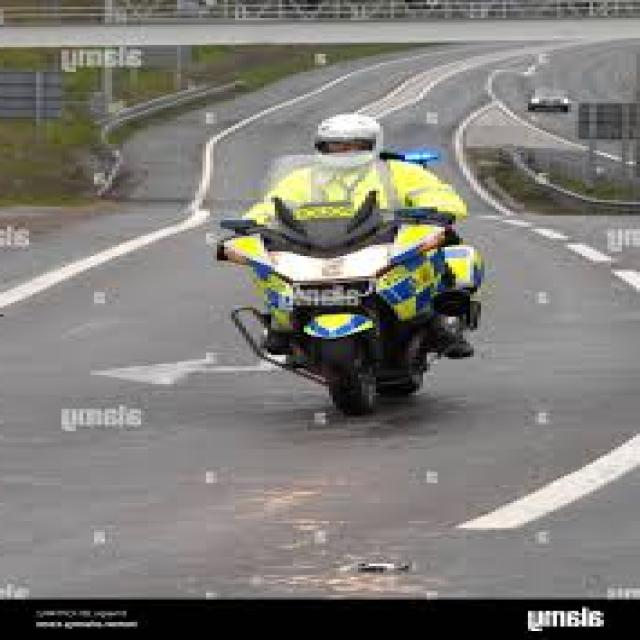bike: (213, 155, 482, 418)
